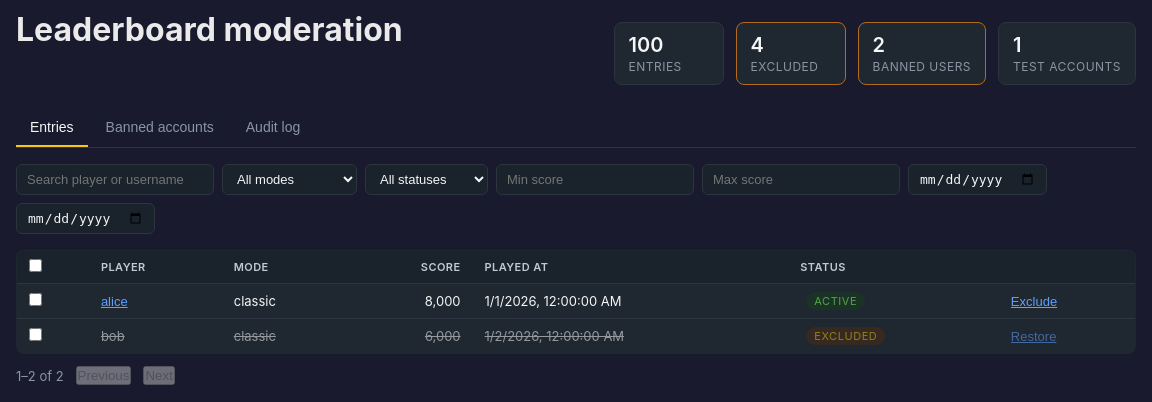
Test: AdminLeaderboardPage › switches to banned tab and shows empty state
The image size is (1152, 402).
Expected: the button "alice" is shown, [101,294,128,309]
Click the tab "Banned accounts".
click(160, 128)  # box [92,109,228,147]
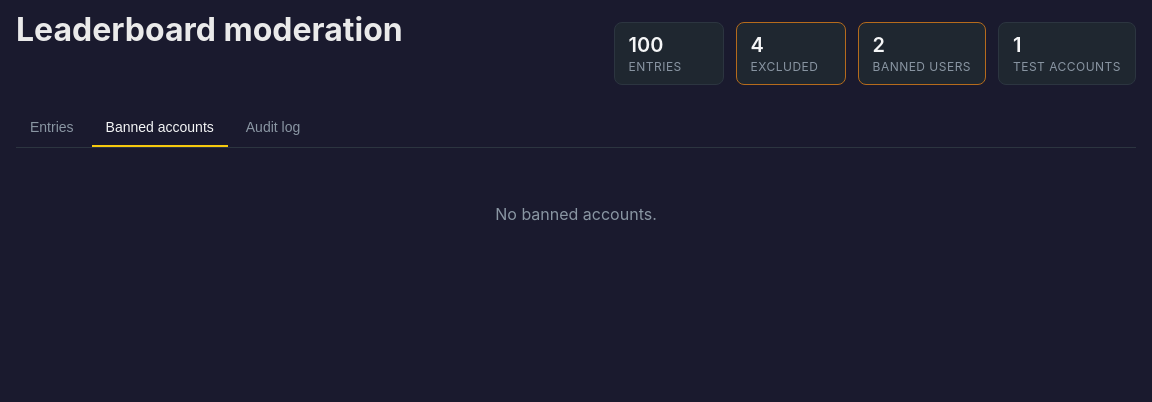
Expected: the text "No banned accounts." is shown, [495,204,657,224]
